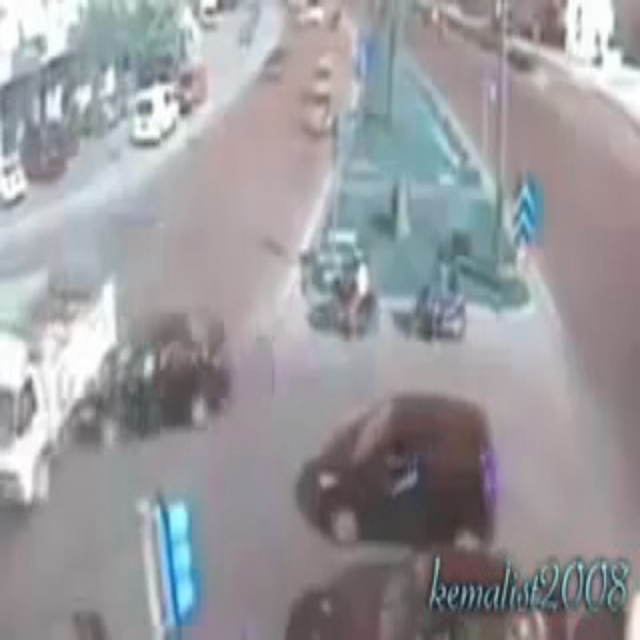acc: (3, 269, 223, 511)
